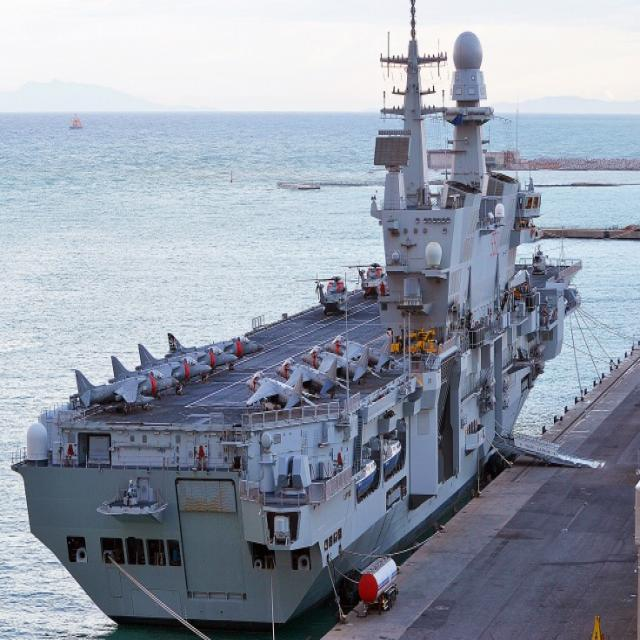Portanaves: (9, 1, 589, 640)
